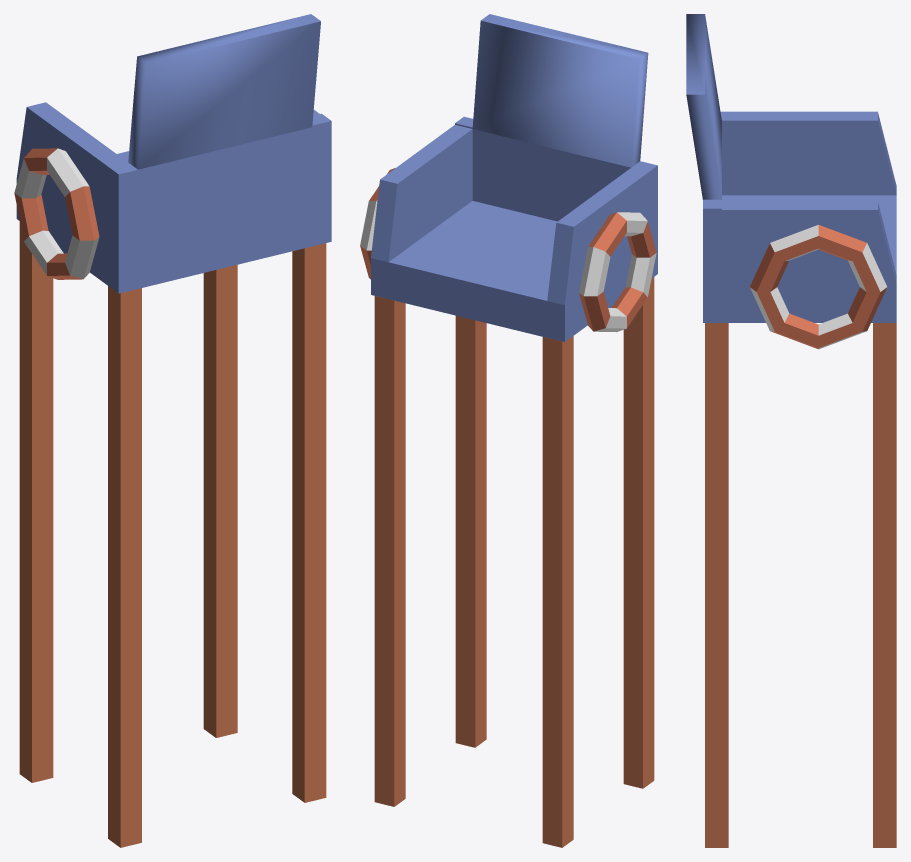
File: lifesaver.fbx
The picture shows the model from 3 angles, left to right: view 1: azimuth 30°, elevation 25°; view 2: azimuth 150°, elevation 25°; view 3: azimuth 270°, elevation 25°; orthographic projection. The views are drawn at different scales.
Visible parts, largest first — view 1: Cube, Cube.001, Cube.003, Cube.002, Cube.004, Cube.005; view 2: Cube, Cube.002, Cube.004, Cube.003, Cube.001, Cube.005, Cube.006; view 3: Cube, Cube.001, Cube.004, Cube.006.
Boxes of the visible parts, x1,y1,x2,y2 form: Cube: (16, 14, 331, 293); Cube.001: (292, 243, 326, 802); Cube.003: (108, 286, 141, 847); Cube.002: (19, 221, 53, 782); Cube.004: (203, 264, 237, 737); Cube.005: (14, 148, 99, 279); Cube: (371, 14, 657, 341); Cube.002: (542, 336, 573, 847); Cube.004: (374, 296, 405, 806); Cube.003: (623, 277, 654, 788); Cube.001: (455, 315, 486, 747); Cube.005: (579, 212, 656, 332); Cube.006: (360, 168, 395, 279); Cube: (686, 14, 896, 322); Cube.001: (705, 323, 728, 847); Cube.004: (873, 323, 896, 847); Cube.006: (750, 224, 887, 349).
Size of the model in its own units: 16.42 by 49 by 12.52.
